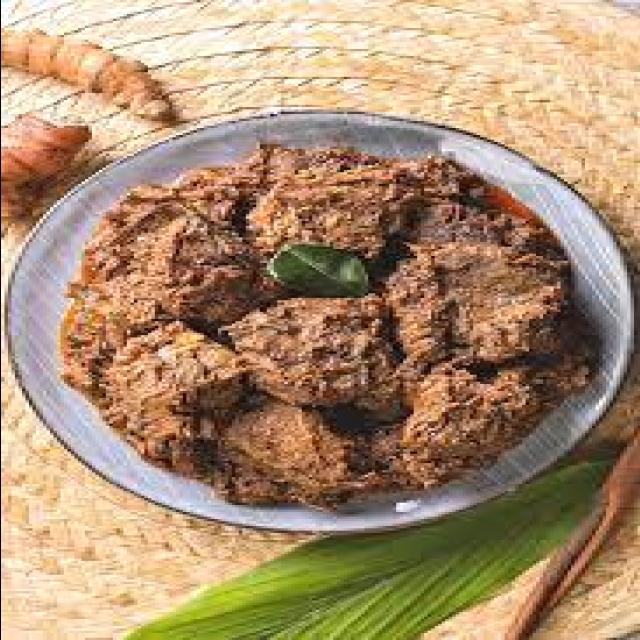rendang: (77, 151, 577, 498)
